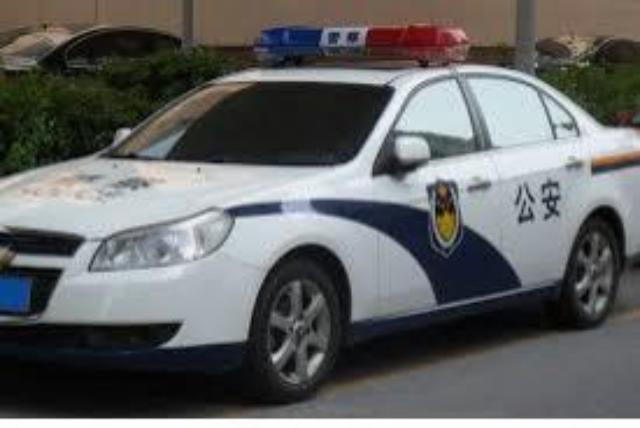police_car: (0, 23, 640, 403)
